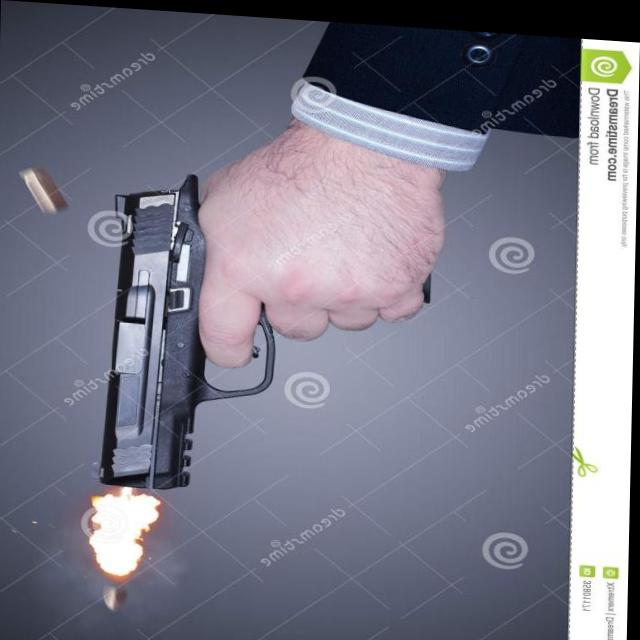handgun: (107, 180, 420, 504), (106, 179, 240, 493)
